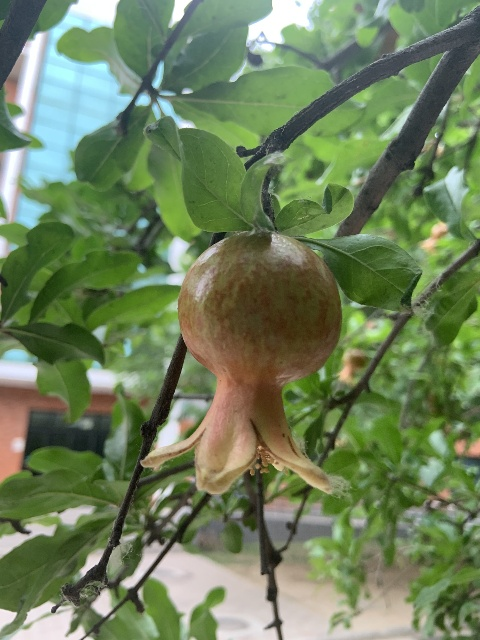early-fruit: (141, 229, 342, 497), (336, 349, 366, 385)
